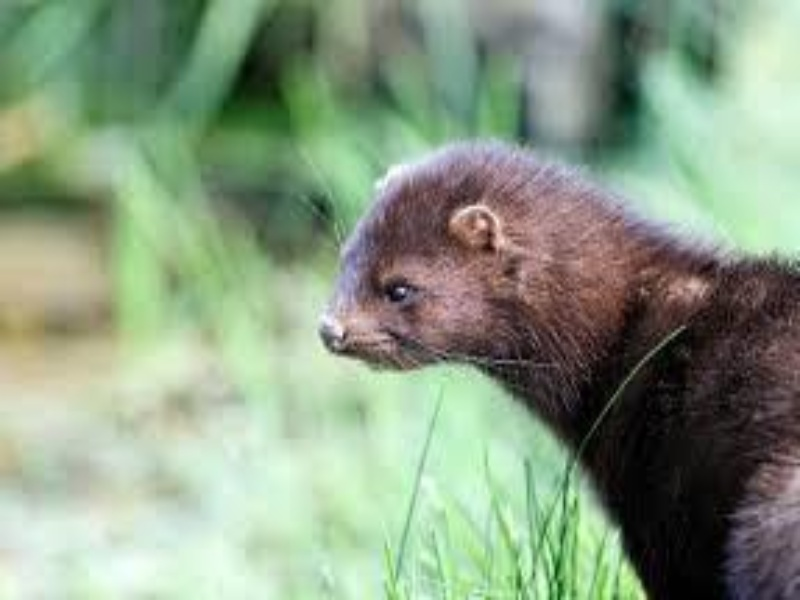minkish: (307, 131, 797, 589)
